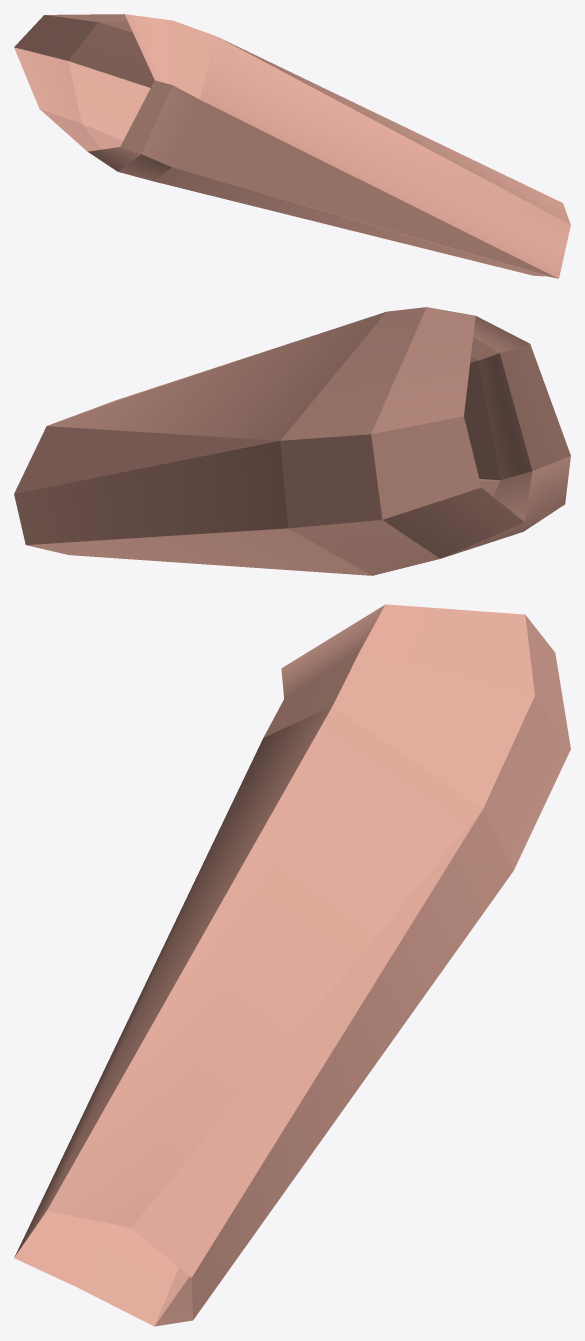
File: cutrmumlforearm.fbx
3 views of the same model, one above another, from view 1: azimuth 30°, elevation 25°; view 2: azimuth 150°, elevation 25°; view 3: azimuth 270°, elevation 25° (orthographic). The views are drawn at different scales.
Parts seen in each view (by area): view 1: mum.025; view 2: mum.025; view 3: mum.025.
Part boxes in pixels (x1,y1,x2,y2): mum.025: [14, 14, 570, 278]; mum.025: [14, 307, 570, 575]; mum.025: [14, 604, 570, 1326].
Size of the model in its own units: 27.49 by 18.22 by 19.94.
